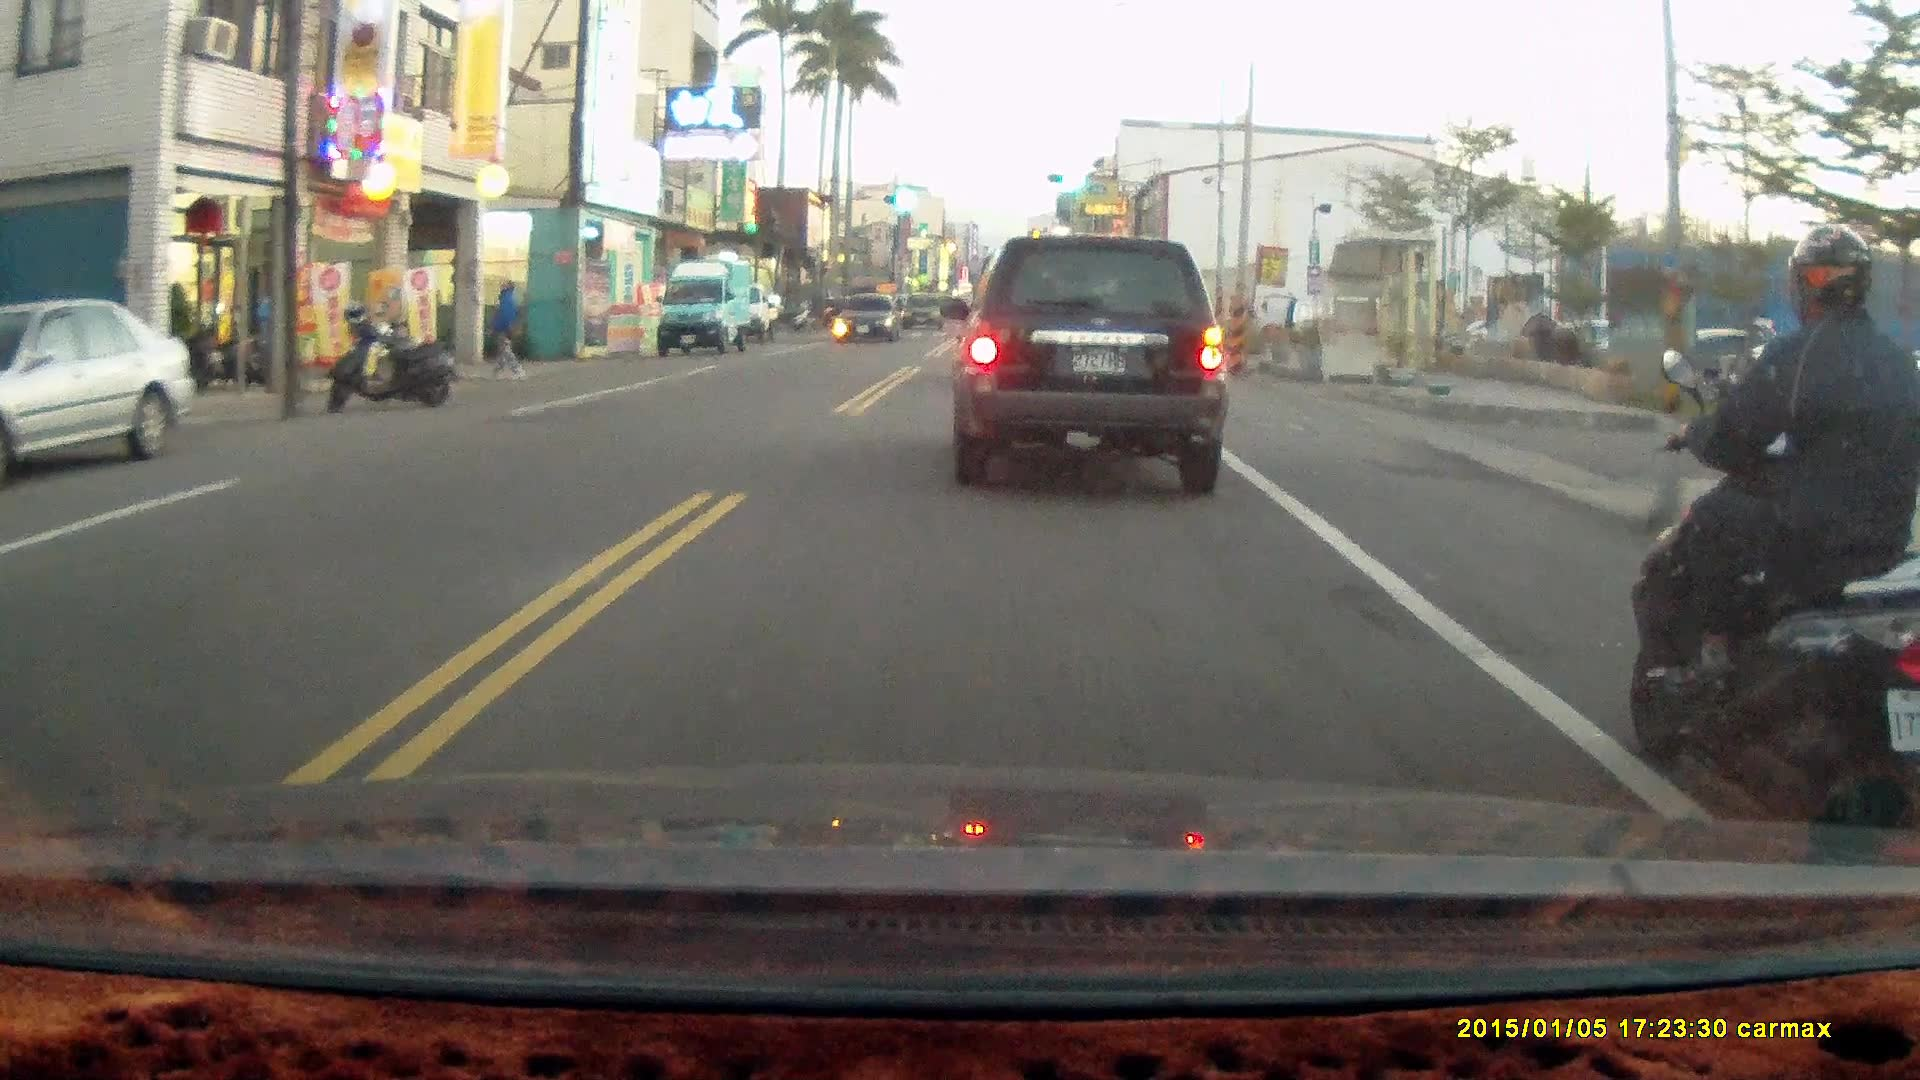pedestrian: (489, 279, 524, 380)
rider: (1625, 224, 1920, 860)
vehicle: (948, 236, 1230, 504), (1, 299, 194, 490), (658, 255, 759, 363), (833, 296, 907, 347)
